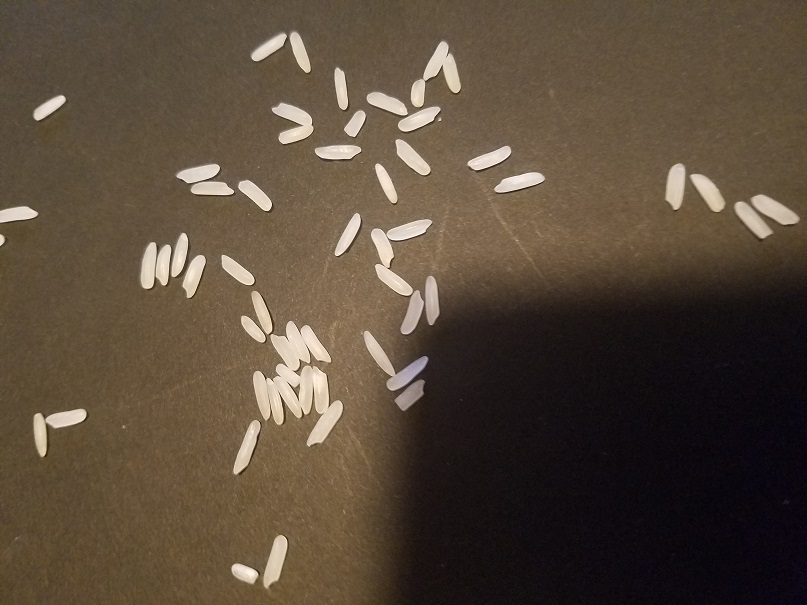egg: (230, 417, 263, 480), (305, 399, 346, 449), (730, 198, 776, 241), (750, 190, 801, 228), (685, 169, 727, 215), (360, 329, 396, 379), (331, 209, 367, 259), (392, 134, 432, 178), (464, 141, 516, 174), (262, 532, 290, 591), (384, 354, 428, 391), (272, 374, 306, 420), (372, 261, 415, 297), (298, 323, 333, 367), (395, 102, 442, 134), (491, 169, 546, 196), (247, 29, 288, 63), (286, 26, 314, 75), (217, 253, 257, 287), (421, 36, 451, 81), (178, 254, 207, 300), (384, 215, 435, 241), (263, 375, 288, 428), (662, 157, 686, 212), (247, 289, 276, 334), (283, 319, 312, 364), (269, 329, 300, 370), (373, 159, 401, 204), (236, 178, 273, 212), (42, 404, 90, 430), (368, 226, 396, 270), (272, 97, 315, 125), (365, 90, 411, 116), (399, 290, 426, 334), (167, 230, 190, 281), (250, 369, 272, 421), (394, 375, 427, 409), (30, 92, 67, 122), (272, 121, 316, 145), (442, 51, 464, 97), (312, 143, 365, 162), (175, 162, 222, 183), (29, 412, 48, 461), (331, 64, 350, 113), (236, 315, 267, 345), (424, 273, 441, 327), (139, 239, 156, 291), (297, 365, 314, 417), (1, 201, 39, 223), (227, 559, 260, 584), (272, 363, 301, 388), (343, 108, 366, 139), (155, 242, 170, 289), (313, 368, 328, 415), (190, 179, 234, 195), (410, 78, 427, 108)
